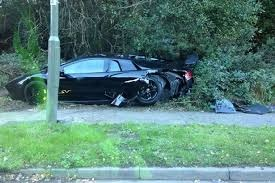Smashed: (119, 56, 199, 106)
